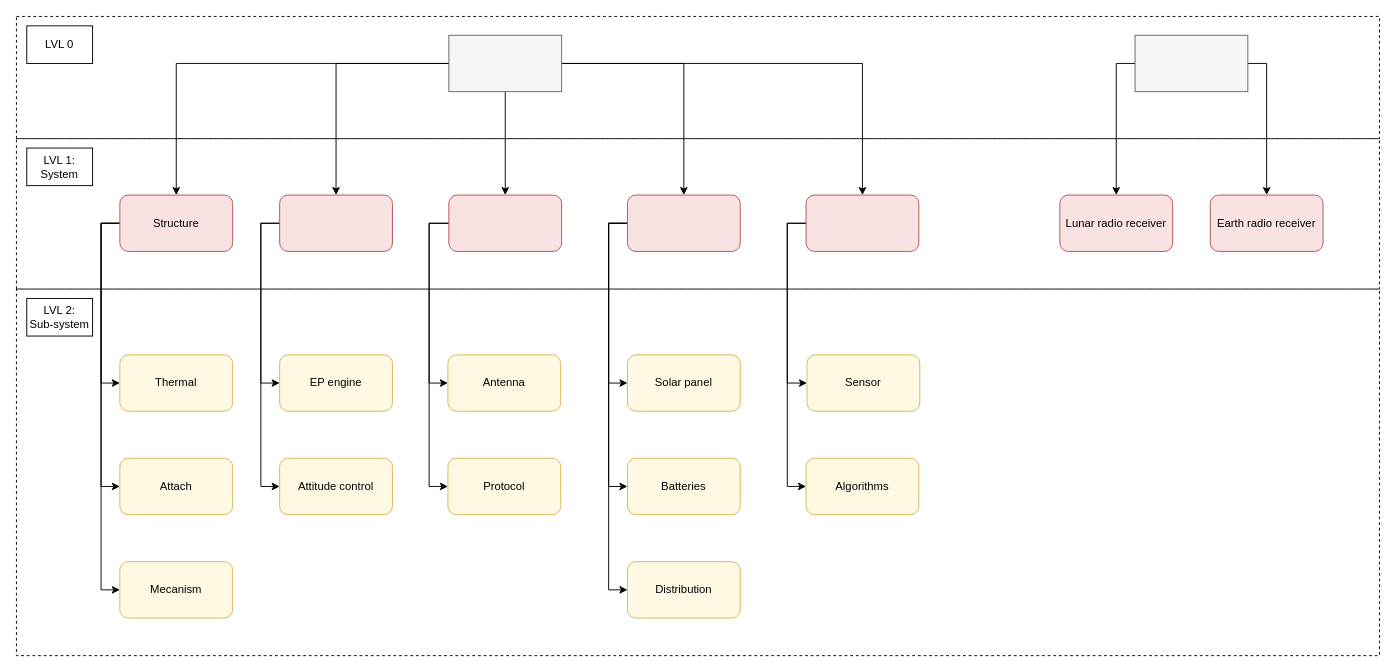
Image size: 1396x672. Some labels were removed from this diagram. Here are the shapes that lost their labels. From the top down, the centre of each, then its label:
[505,63]: Spacecraft
[1191,63]: Ground Segment
[335,222]: Propulsion
[505,222]: Telecommunication
[683,222]: Electrical Power
[862,222]: Avionics
